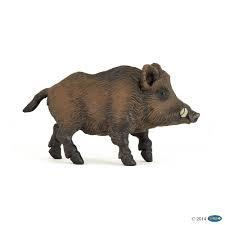wildboar: (21, 61, 202, 165)
